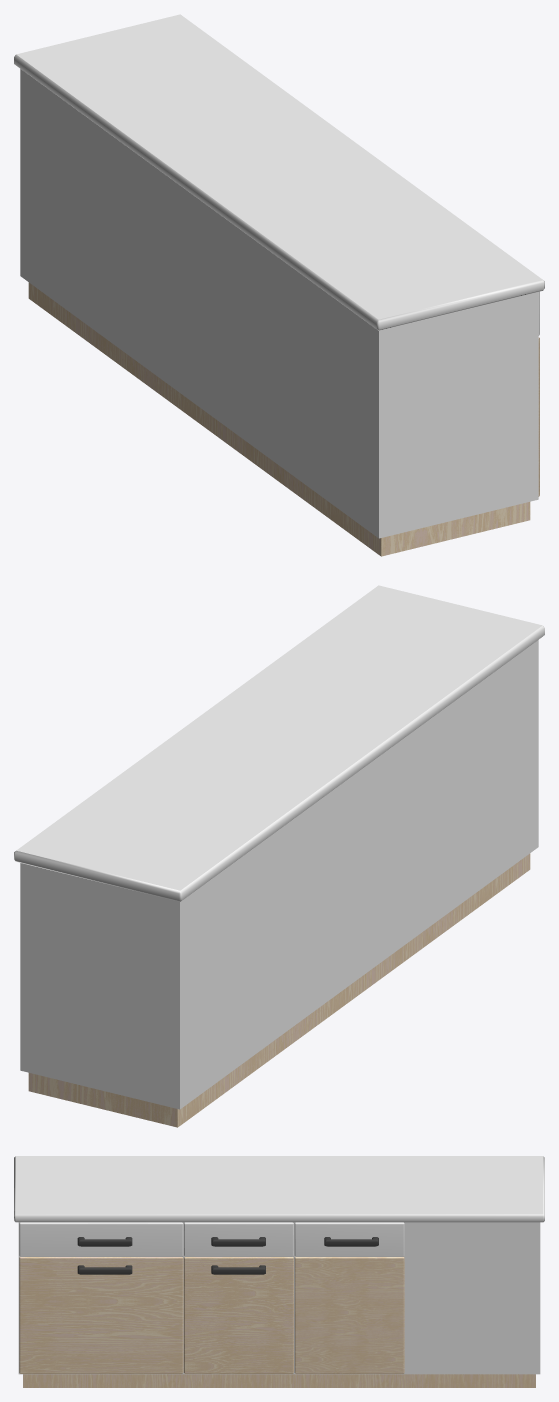
The model's file is kitchen_033.fbx.
3 views of the same model, one above another, from view 1: azimuth 30°, elevation 25°; view 2: azimuth 150°, elevation 25°; view 3: azimuth 270°, elevation 25° (orthographic). The views are drawn at different scales.
Parts seen in each view (by area): view 1: kitchen_033; view 2: kitchen_033; view 3: kitchen_033.
Boxes of the visible parts, box(x1,y1,x2,y2) form: kitchen_033: box(14, 14, 544, 556); kitchen_033: box(14, 585, 544, 1127); kitchen_033: box(14, 1156, 544, 1387).
Bounding box in the file's own units: 84.01 × 299 × 110.
